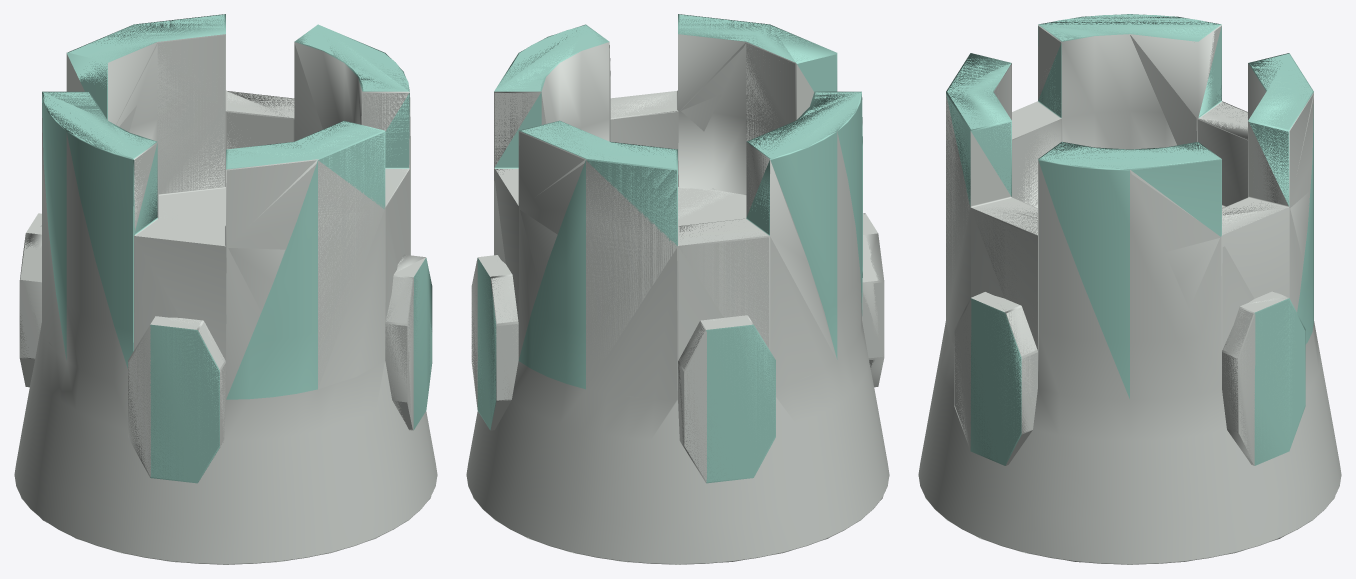
Rendered from tower-defense-kit__tower-round-top-a.glb.
3 renders of one model, left to right at view 1: azimuth 30°, elevation 25°; view 2: azimuth 150°, elevation 25°; view 3: azimuth 270°, elevation 25°, orthographic.
Parts seen in each view (by area): view 1: L0_metal, L0_accent, L1_metal, L1_accent; view 2: L0_metal, L0_accent, L1_metal, L1_accent; view 3: L0_metal, L0_accent, L1_metal, L1_accent.
Boxes of the visible parts, bbox=[...] form: L0_metal: bbox=[14, 35, 437, 564]; L0_accent: bbox=[42, 14, 432, 482]; L1_metal: bbox=[14, 34, 437, 564]; L1_accent: bbox=[42, 14, 432, 483]; L0_metal: bbox=[466, 42, 889, 564]; L0_accent: bbox=[477, 14, 862, 482]; L1_metal: bbox=[466, 34, 889, 564]; L1_accent: bbox=[477, 14, 861, 483]; L0_metal: bbox=[918, 26, 1341, 564]; L0_accent: bbox=[946, 14, 1313, 464]; L1_metal: bbox=[918, 24, 1341, 564]; L1_accent: bbox=[946, 14, 1313, 465].
Size of the model in its own units: 1 by 1 by 1.
